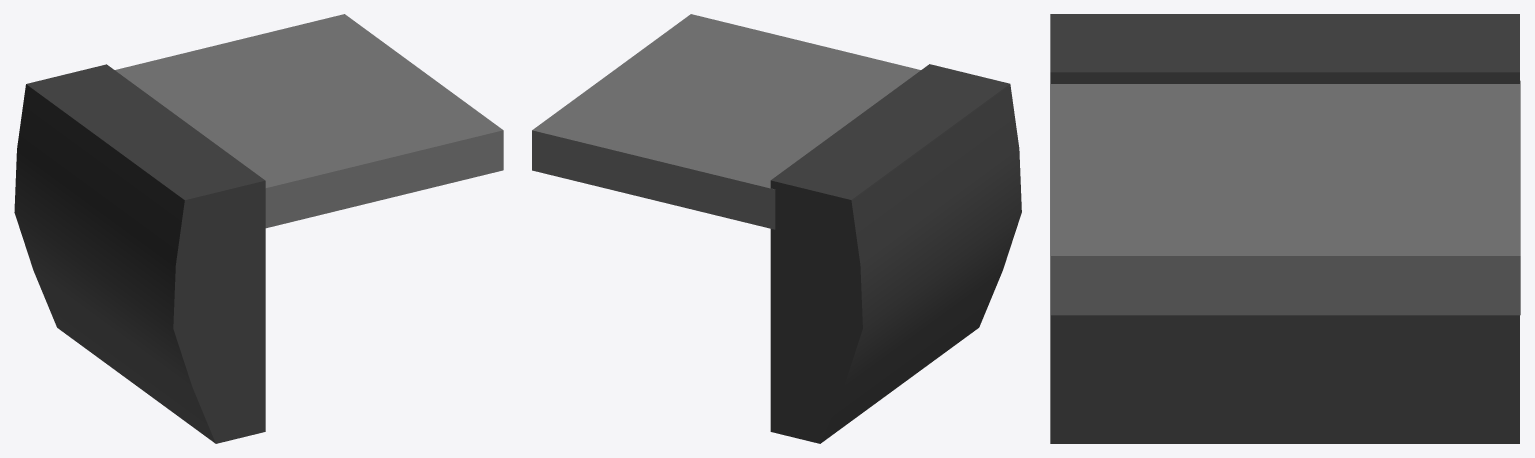
Rendered from mesh_stone_harbour__entrance_side.fbx.
3 renders of one model, left to right at view 1: azimuth 30°, elevation 25°; view 2: azimuth 150°, elevation 25°; view 3: azimuth 270°, elevation 25°, orthographic. The views are drawn at different scales.
Visible parts, largest first — view 1: stone_harbour__entrance_side; view 2: stone_harbour__entrance_side; view 3: stone_harbour__entrance_side.
Boxes of the visible parts, bbox=[...] form: stone_harbour__entrance_side: bbox=[14, 14, 503, 443]; stone_harbour__entrance_side: bbox=[532, 14, 1021, 443]; stone_harbour__entrance_side: bbox=[1050, 14, 1520, 443].
Bounding box in the file's own units: 861 × 626 × 718.
Materials: 1 (1 with a texture image).
